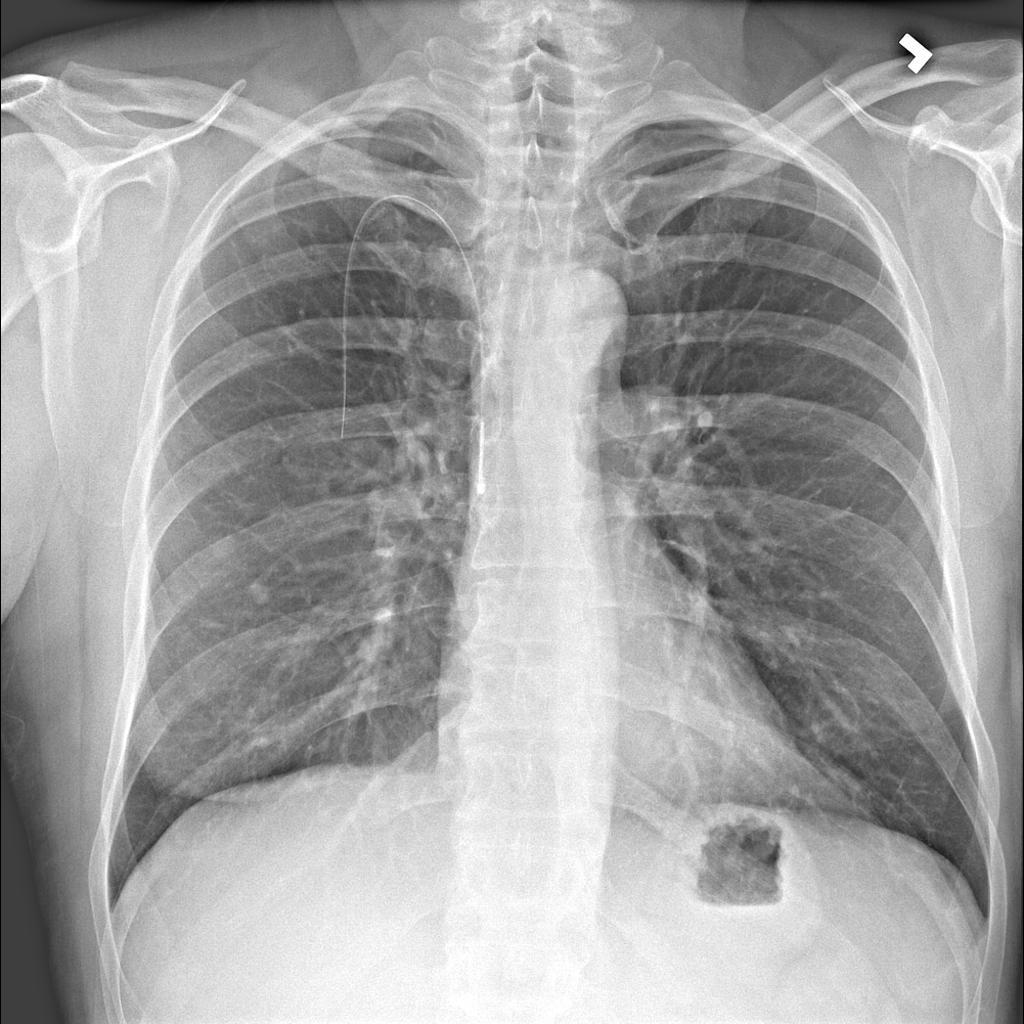Nodule: (245, 579, 274, 611), (210, 530, 237, 562)
